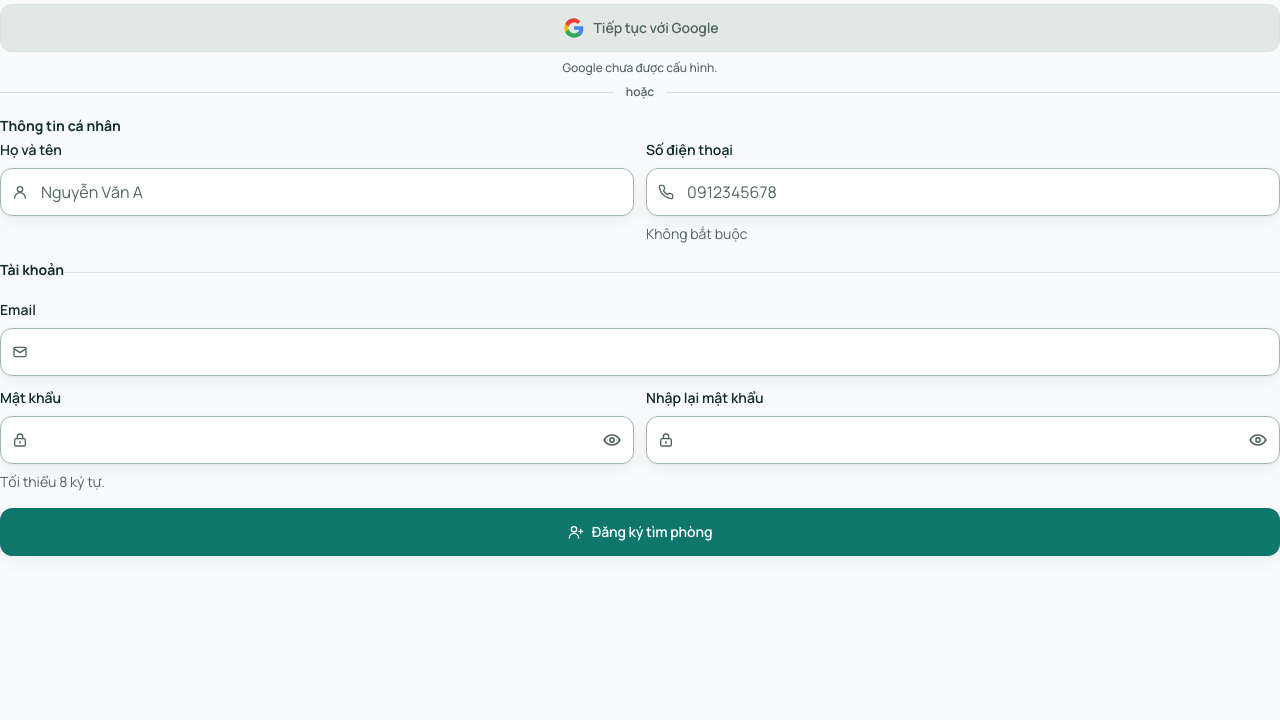
Scenario: RegistrationForm › never renders a raw backend validation fallback
The width and height of the screenshot is (1280, 720).
Type "  Nguyễn Văn An  " into the field named "Họ và tên (bắt buộc)" at (317, 192), box [0,168,634,216]
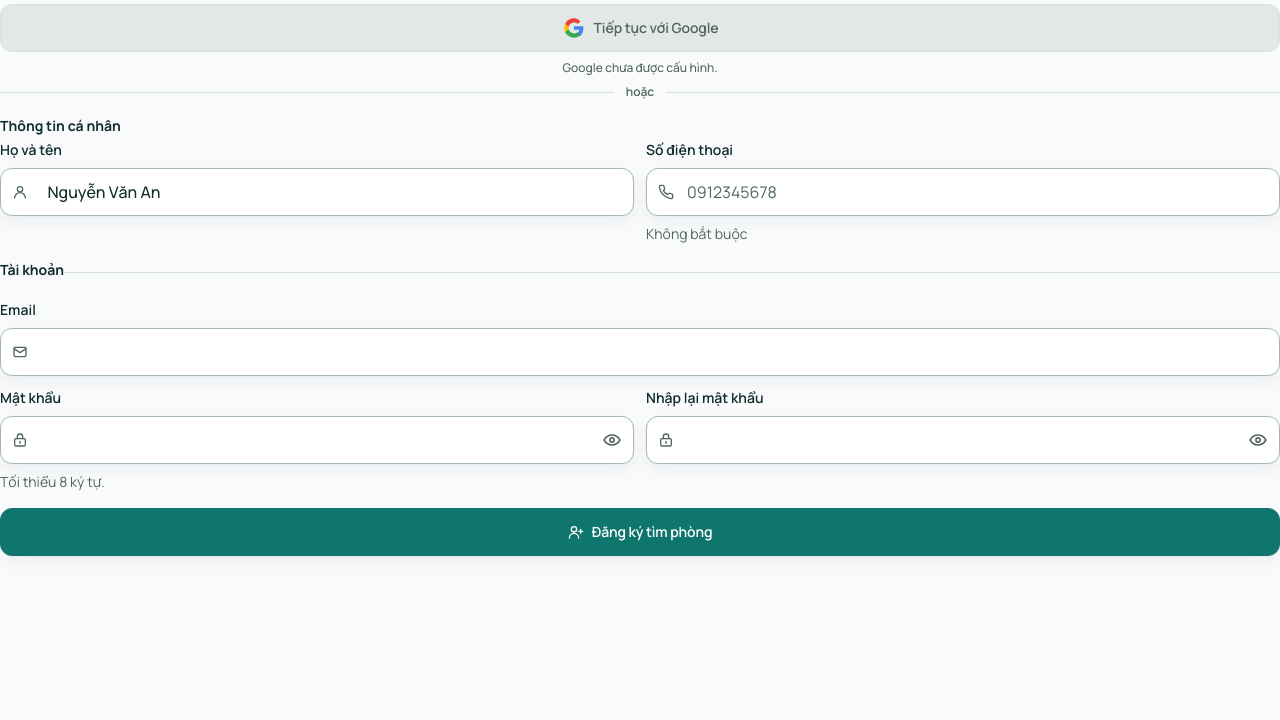
Type "tenant@example.com" into the field named "Email (bắt buộc)" at (640, 352), box [0,328,1279,376]
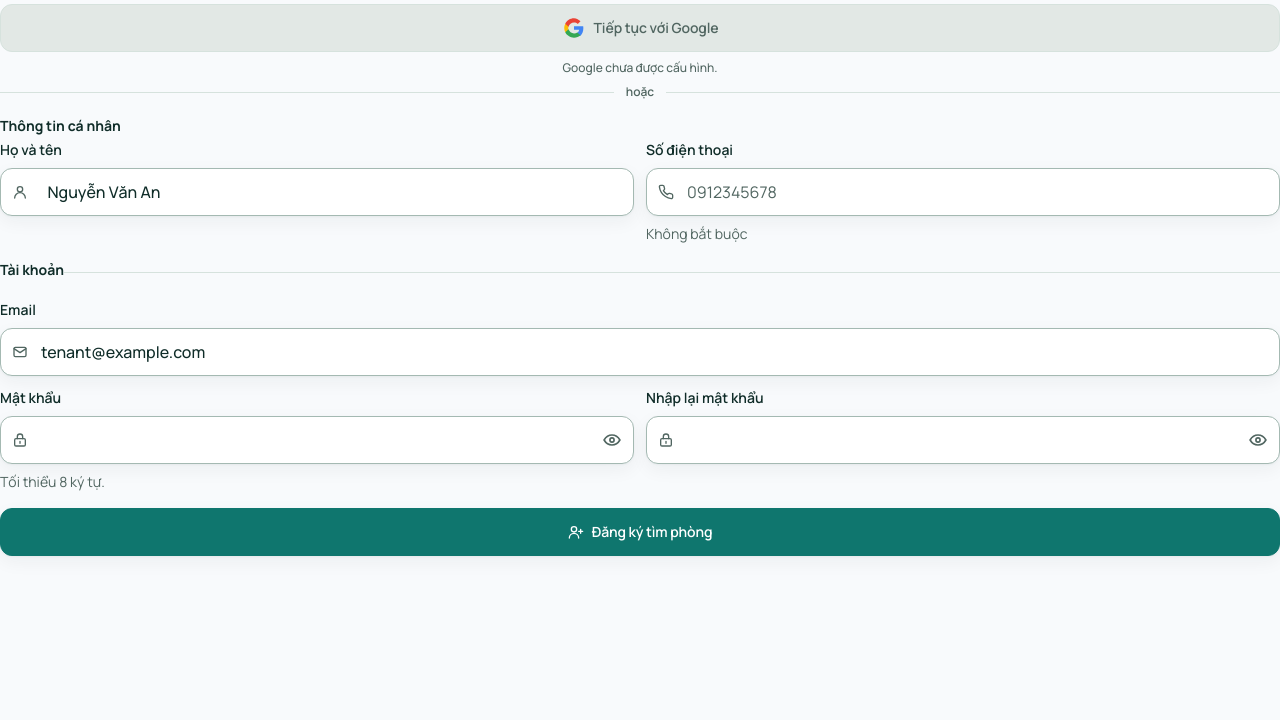
Type "password" into the password field named "Mật khẩu (bắt buộc)" at (317, 440), box [0,416,634,464]
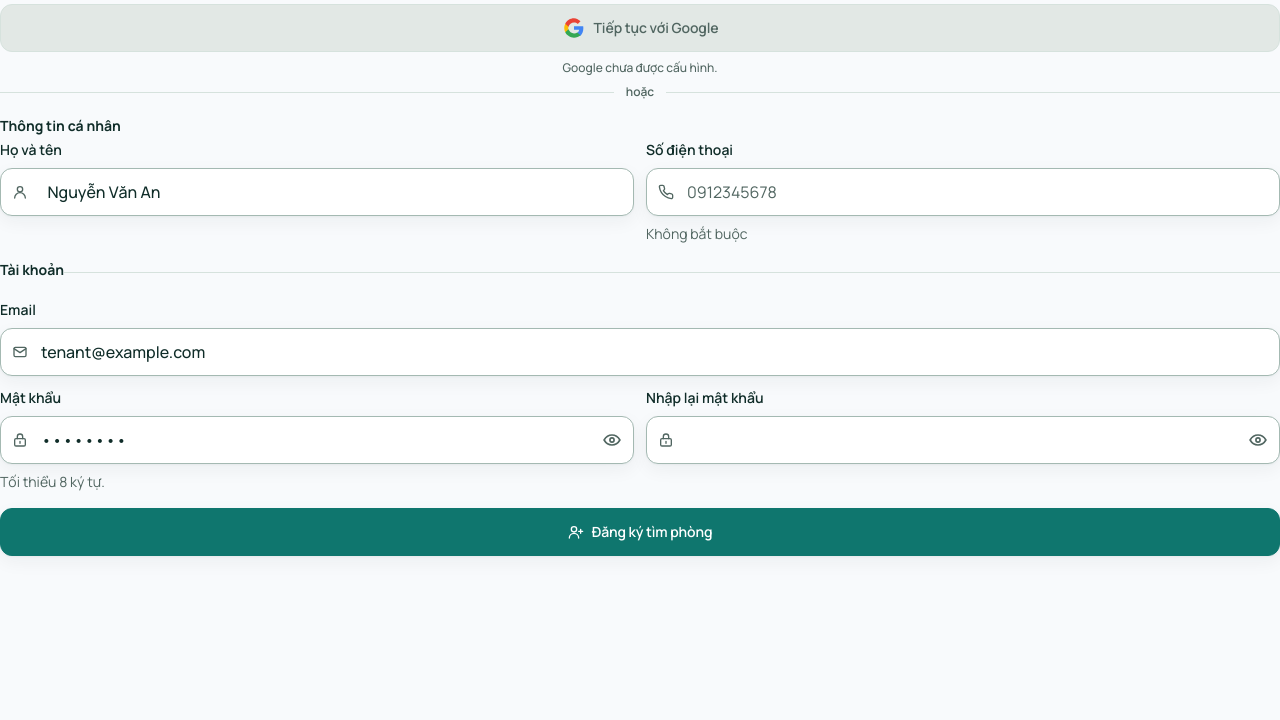
Type "password" into the password field named "Nhập lại mật khẩu (bắt buộc)" at (963, 440), box [646,416,1279,464]
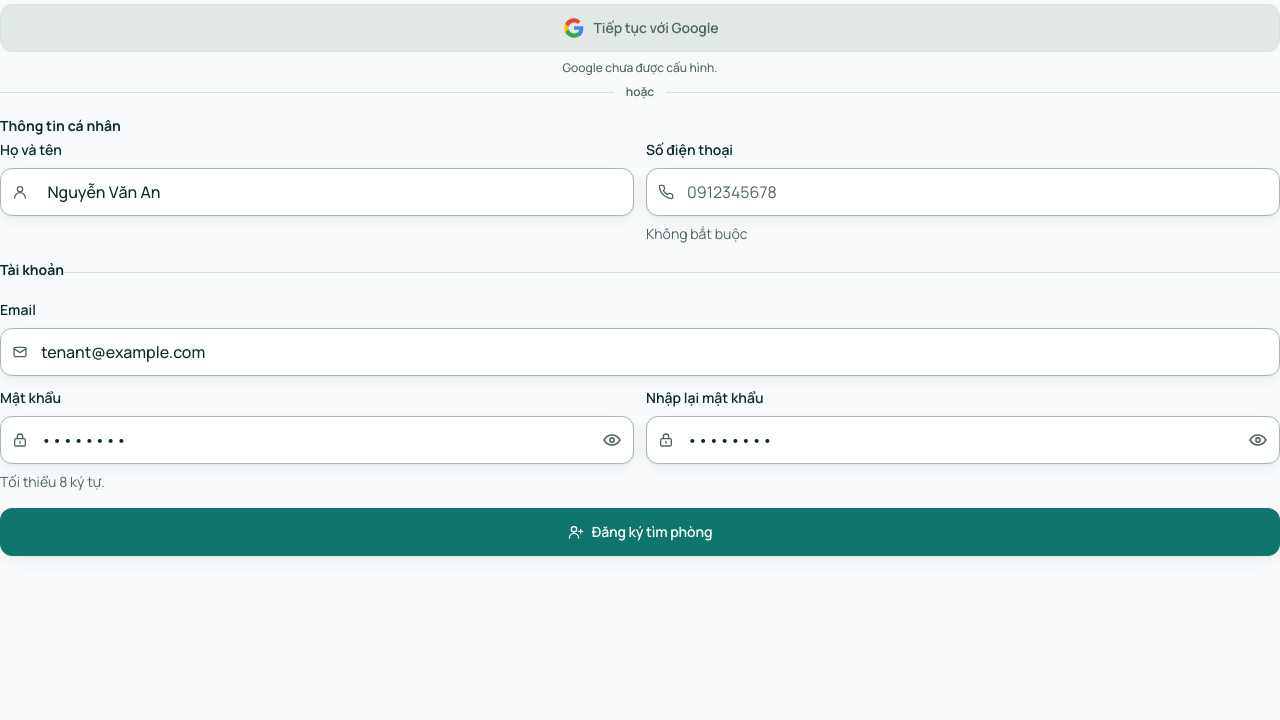
Click the button "Đăng ký tìm phòng" at (640, 532), box [0,508,1279,556]
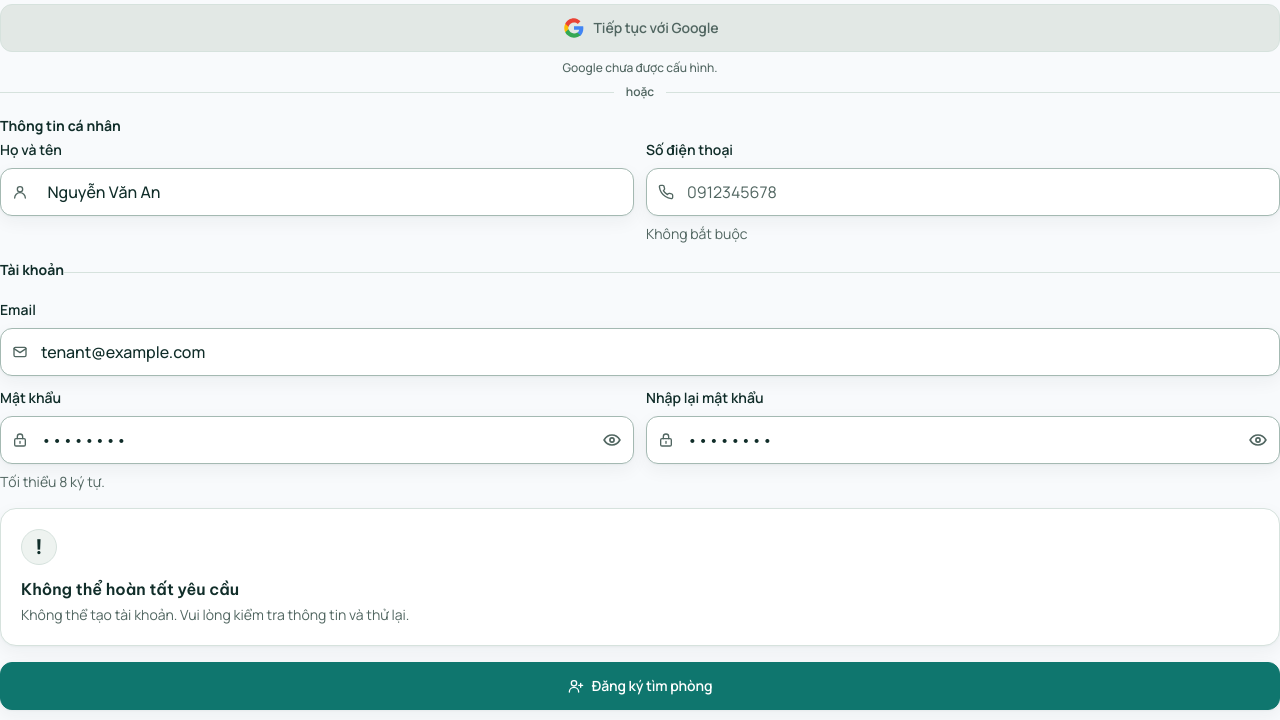
Now the message shows "Không thể tạo tài khoản. Vui lòng kiểm tra thông tin và thử lại.", box [21,605,409,624]
